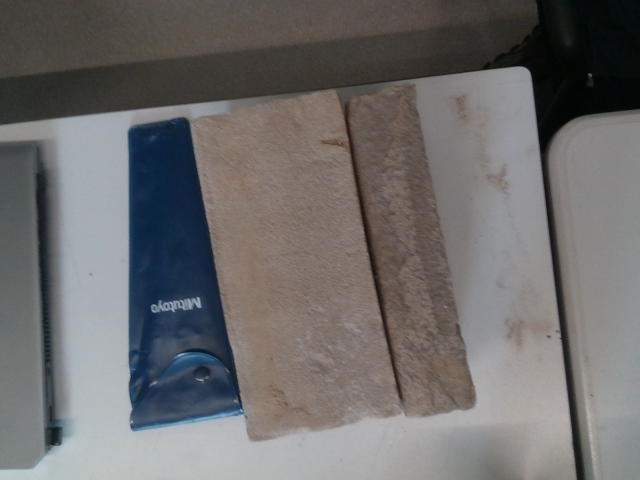brick: (192, 97, 395, 437)
